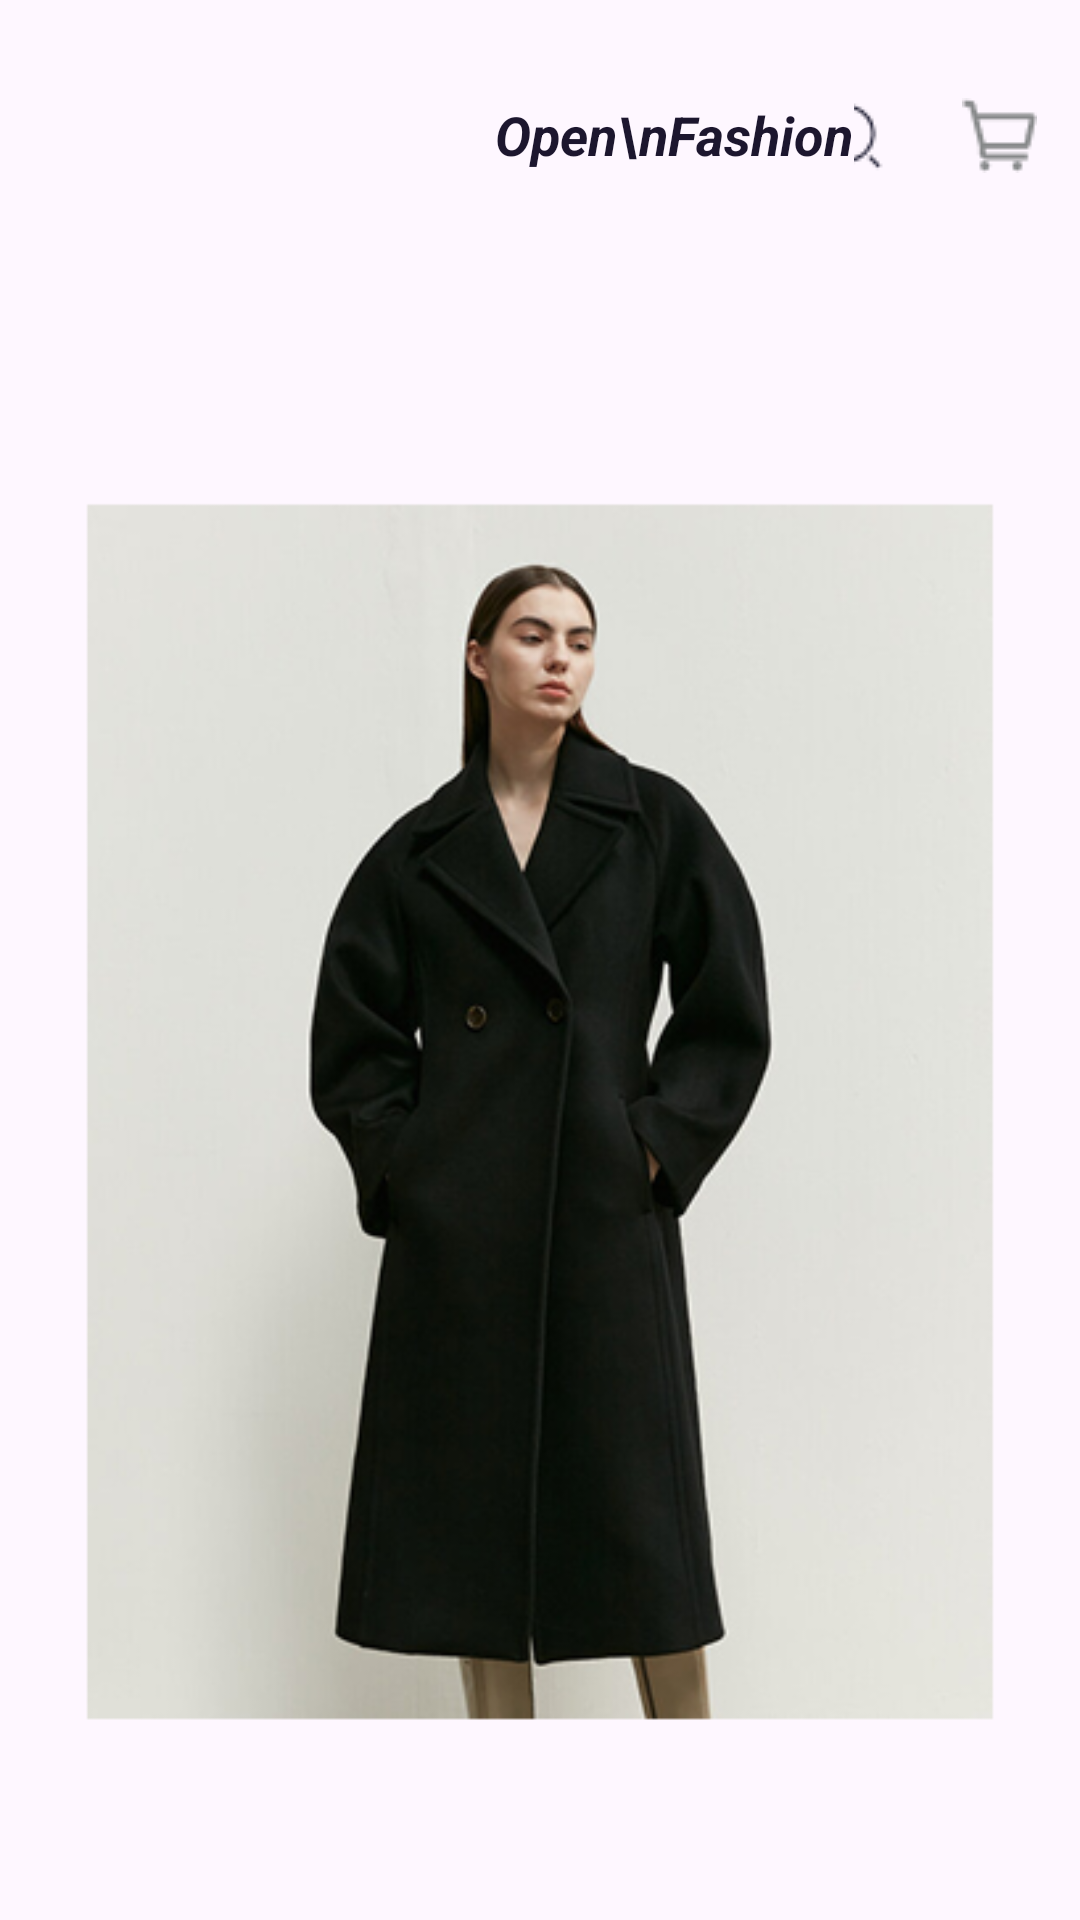

Screen size 1080×1920. Icon name, then its center in pixels as (x=x, y=y):
cart: (x=999, y=135)
